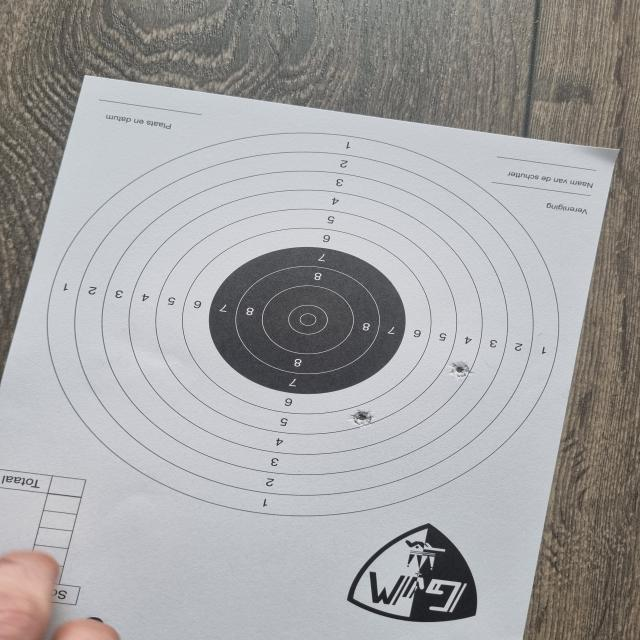4: (449, 364, 470, 378)
5: (350, 410, 373, 426)
Target: (43, 130, 562, 514)
black_contour: (206, 247, 416, 393)
